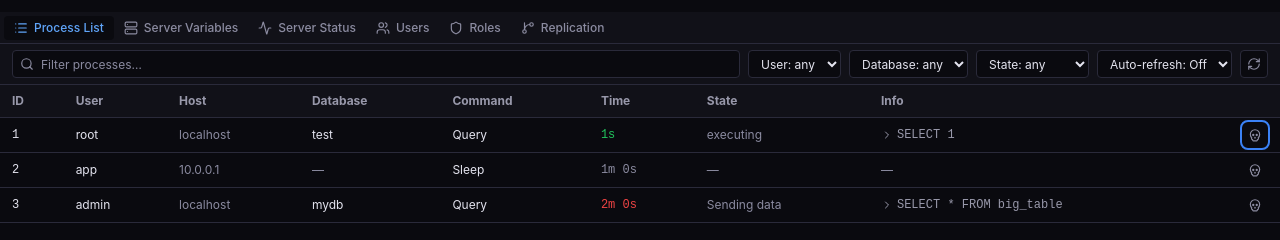
Test: ProcessListTab › focuses the first kill choice and closes on Escape (#833)
Click the button titled "Kill process 1" at (1255,135), box x1=1244 y1=124 x2=1266 y2=146
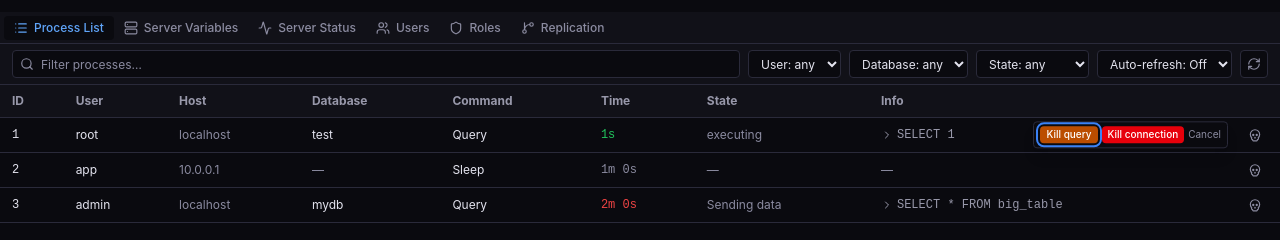
Press Escape in the button "Kill query", box x1=1040 y1=126 x2=1098 y2=144
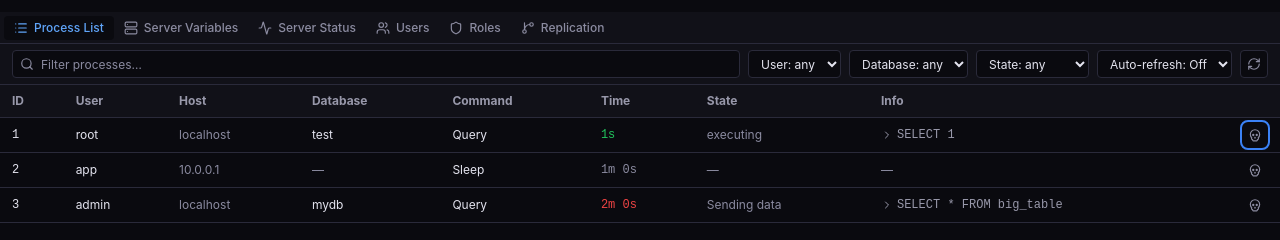
Expected: the button "Kill query" is gone
